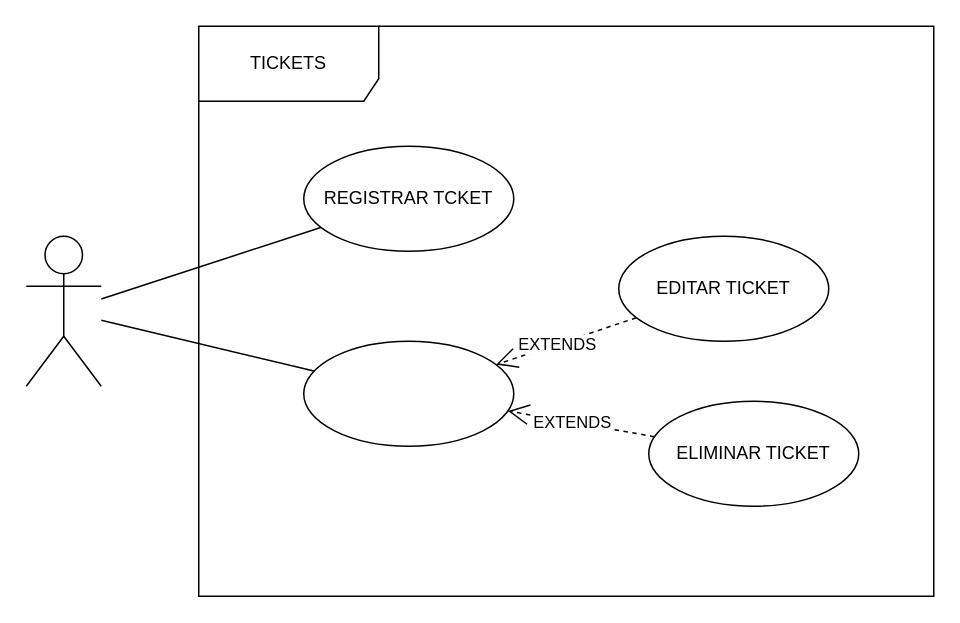
The diagram is 960 pixels wide and 623 high, and some of its shapes have lost their labels. The centre of each missing label's shape, as x and y in pixels:
ADMIN: point (63, 310)
VER TICKETS: point (408, 393)
